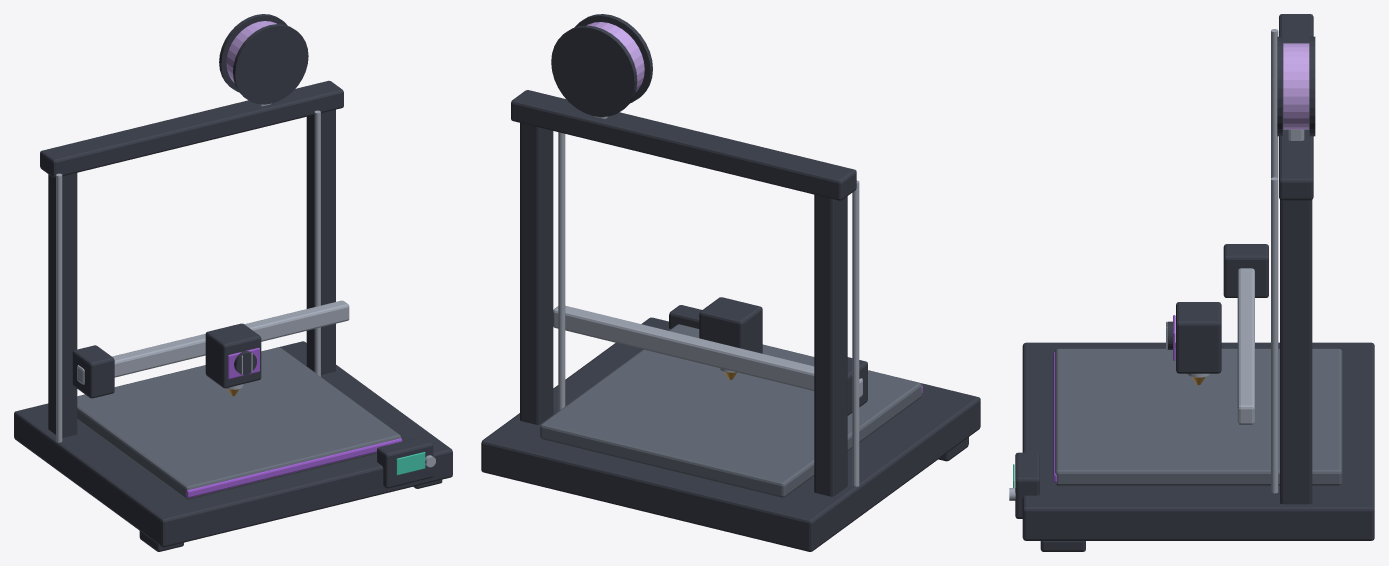
Rendered from process-fdm-printer.glb.
3 renders of one model, left to right at view 1: azimuth 30°, elevation 25°; view 2: azimuth 150°, elevation 25°; view 3: azimuth 270°, elevation 25°, orthographic. The views are drawn at different scales.
Parts seen in each view (by area): view 1: print-bed, base, top-crossbar, upright, upright.001, spool-rim, x-axis-rail, extruder, vertical-lead-screw, gantry-drive, bed-violet-edge, control-housing (+3 smaller); view 2: base, print-bed, top-crossbar, upright, upright.001, x-axis-rail, spool-rim.001, extruder, vertical-lead-screw, vertical-lead-screw.001, spool-rim, filament-spool (+2 smaller); view 3: print-bed, base, upright.001, top-crossbar, extruder, x-axis-rail, vertical-lead-screw.001, filament-spool, gantry-drive, control-housing, vertical-lead-screw, spool-rim.001 (+2 smaller).
Part boxes in pixels (<box>): print-bed: <box>77,347,401,499</box>; base: <box>14,341,452,547</box>; top-crossbar: <box>40,80,343,177</box>; upright: <box>48,173,77,437</box>; upright.001: <box>306,109,335,374</box>; spool-rim: <box>233,24,308,104</box>; x-axis-rail: <box>77,300,349,384</box>; extruder: <box>205,323,261,388</box>; vertical-lead-screw: <box>56,173,62,442</box>; gantry-drive: <box>72,345,114,398</box>; bed-violet-edge: <box>186,438,402,497</box>; control-housing: <box>377,437,433,488</box>; base: <box>481,317,980,551</box>; print-bed: <box>540,324,921,497</box>; top-crossbar: <box>511,90,856,200</box>; upright: <box>814,194,847,496</box>; upright.001: <box>520,123,553,424</box>; x-axis-rail: <box>553,305,862,397</box>; spool-rim.001: <box>551,25,637,116</box>; extruder: <box>699,297,762,353</box>; vertical-lead-screw: <box>852,180,859,486</box>; vertical-lead-screw.001: <box>558,132,565,411</box>; spool-rim: <box>574,14,652,102</box>; filament-spool: <box>587,22,644,92</box>; print-bed: <box>1055,348,1342,485</box>; base: <box>1022,342,1374,540</box>; upright.001: <box>1280,200,1312,504</box>; top-crossbar: <box>1279,14,1313,200</box>; extruder: <box>1176,302,1221,373</box>; x-axis-rail: <box>1237,268,1254,424</box>; vertical-lead-screw.001: <box>1271,177,1278,493</box>; filament-spool: <box>1283,43,1309,129</box>; gantry-drive: <box>1223,244,1268,297</box>; control-housing: <box>1015,452,1039,518</box>; vertical-lead-screw: <box>1271,29,1278,178</box>; spool-rim.001: <box>1309,36,1315,136</box>.
Bounding box in the file's own units: 3.65 × 4.8 × 3.38.
